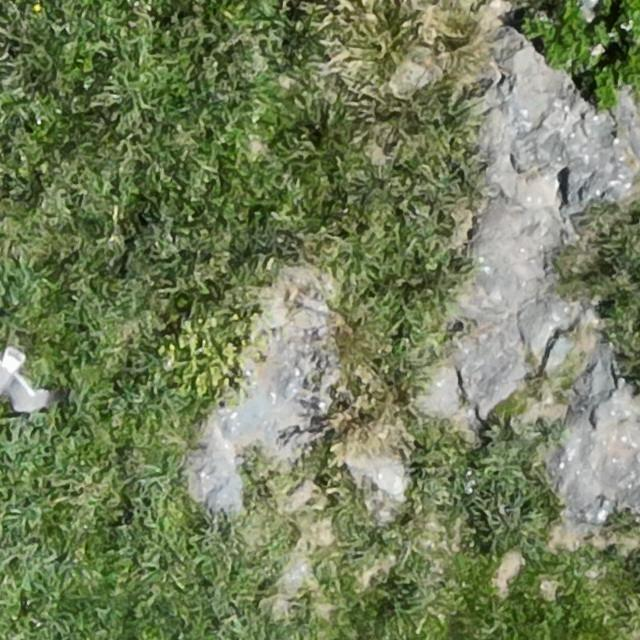F: (2, 355, 52, 413)
